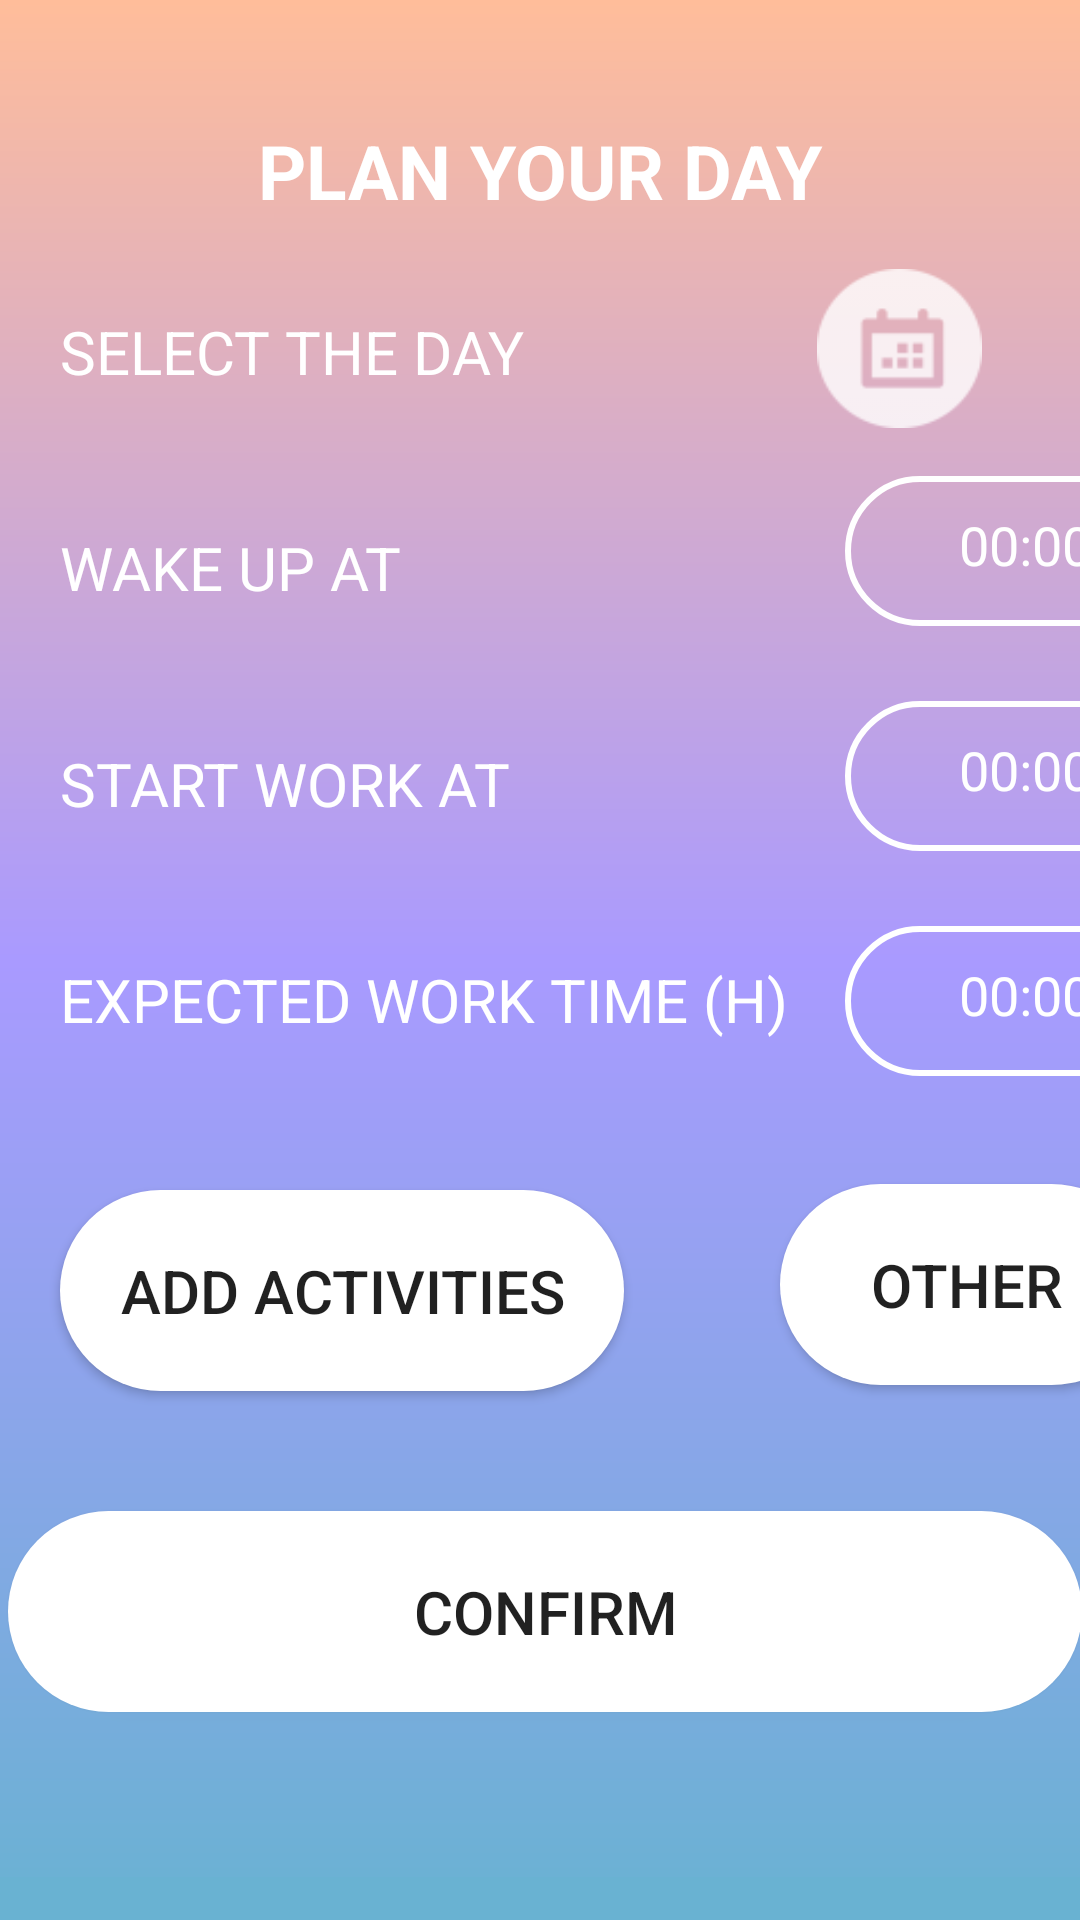

Icon bounding boxes for this 1080x1920 phone screenshot, format (x1, y1, x2, y2):
calendar: (817, 269, 982, 428)
